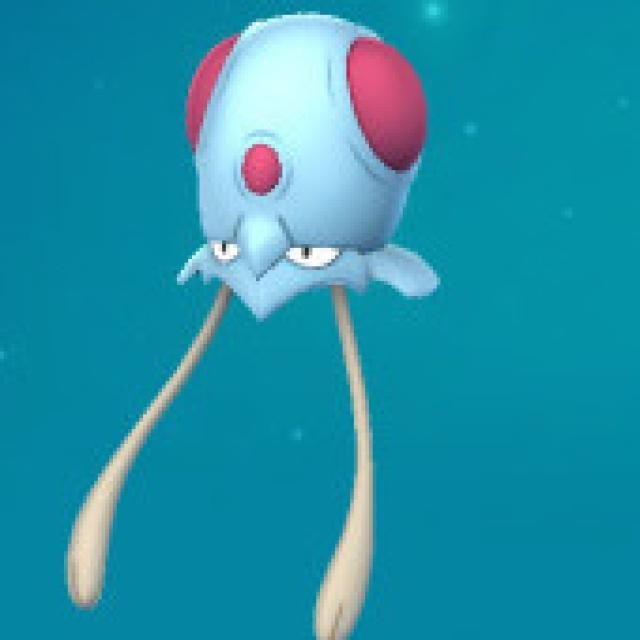Tentacool: (179, 14, 433, 362)
